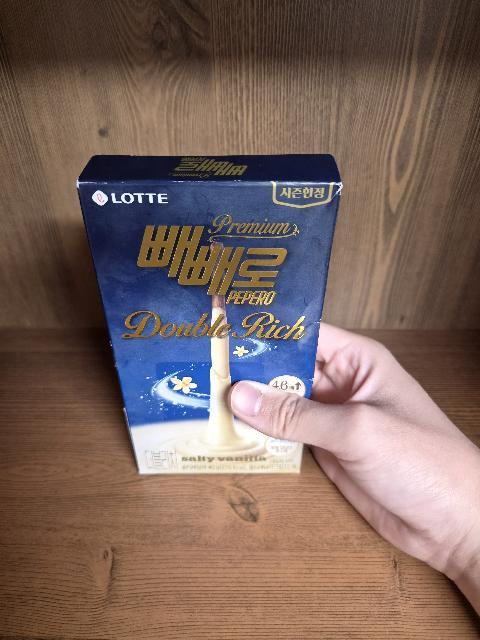pepero: (77, 154, 342, 474)
